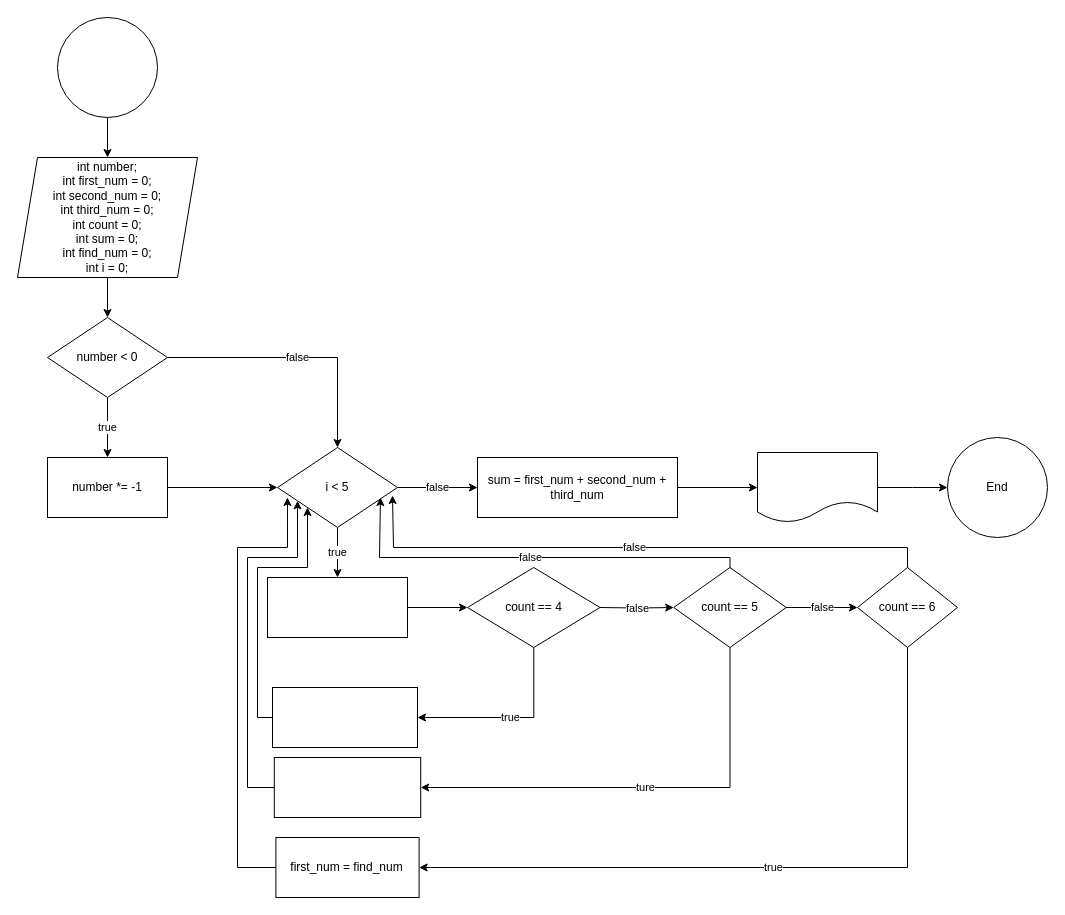
Some shapes in this 1065 by 915 pixel diagram are drawn without their labels. The box of each missing label's shape, as (x1, y1, x2, y2) in pixels:
find_num = n % 10 count++ number /= 10 i++: (266, 576, 408, 638)
second_num = find_num: (273, 756, 421, 818)
Start: (56, 16, 158, 118)
sum: (756, 452, 878, 522)
third_num = find_num: (272, 686, 418, 748)
